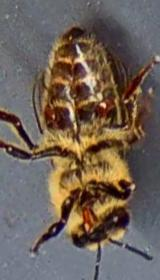varroa_mite: (76, 81, 131, 135), (29, 88, 68, 134)
